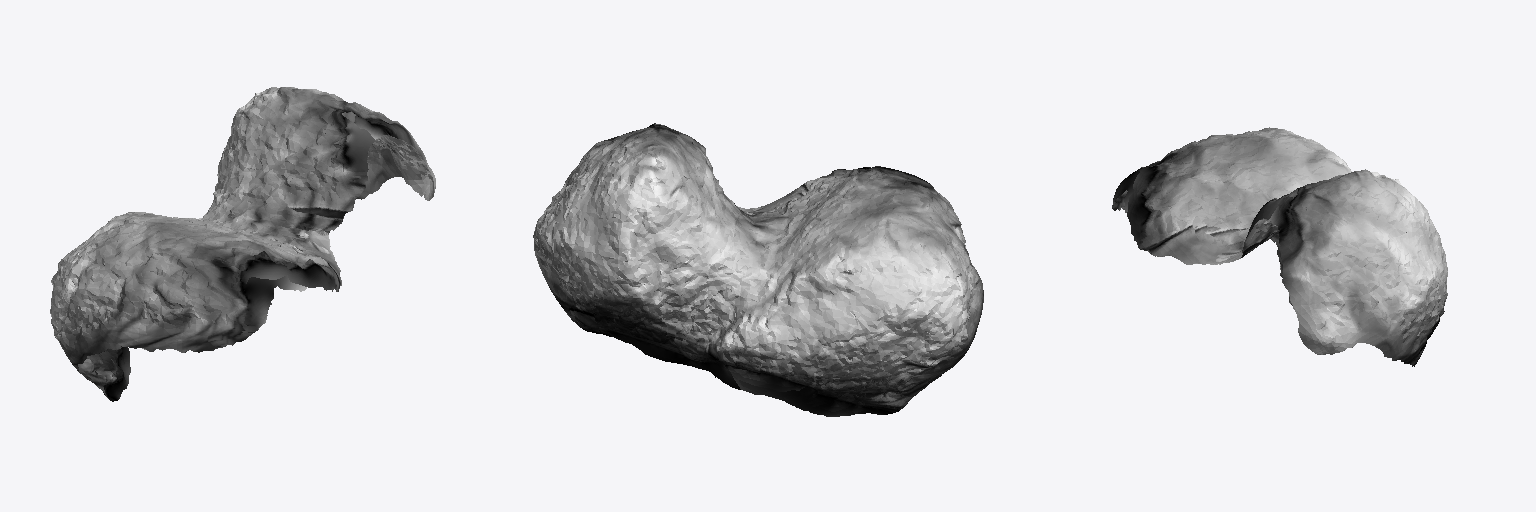
3 views of the same model, side by side, from view 1: azimuth 30°, elevation 25°; view 2: azimuth 150°, elevation 25°; view 3: azimuth 270°, elevation 25° (orthographic).
Size of the model in its own units: 0.1216 by 0.0701 by 0.0886.
1 materials, 1 textured.